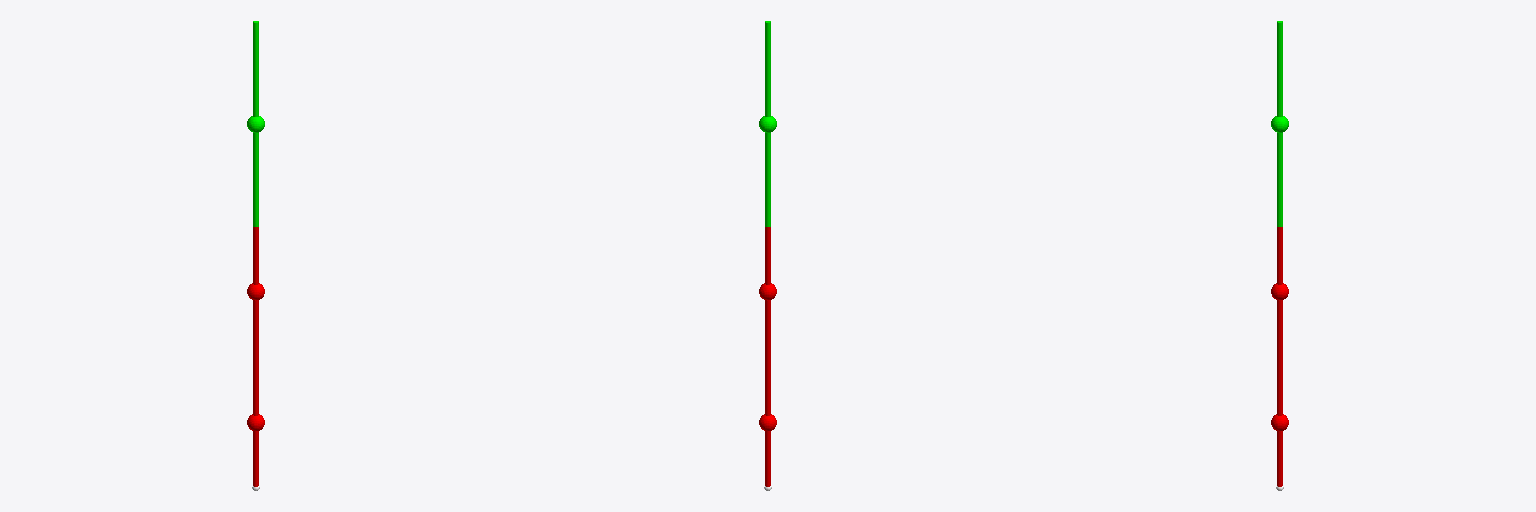
URDF robot description (rabbit):
<?xml version="1.0" ?>
<robot name="rabbit">

    <material name="blue">
        <color rgba="0 0 1 1"/>
    </material>

    <material name="green">
        <color rgba="0 1 0 1"/>
    </material>

    <material name="red">
        <color rgba="1 0 0 1"/>
    </material>

    <material name="white">
        <color rgba="1 1 1 1"/>
    </material>

    <link name="base"/>
    <link name="base_x"/>
    <link name="base_xz"/>
    <link name="torso_mass">
        <inertial>
            <mass value="12.0"/>
            <inertia ixx="1.33" ixy="0" ixz="0" iyy="1.33" iyz="0" izz="1.33"/>
        </inertial>
        <visual>
            <geometry>
                <sphere radius="0.025"/>
            </geometry>
            <material name="green"/>
        </visual>
    </link>
    <link name="torso">
        <visual>
            <origin xyz="0 0 0.3125"/>
            <geometry>
                <cylinder length="0.625" radius="0.0075"/>
            </geometry>
            <material name="green"/>
        </visual>
    </link>
    <link name="left_upper_leg">
        <visual>
            <origin xyz="0 0 -0.2"/>
            <geometry>
                <cylinder length="0.4" radius="0.0075"/>
            </geometry>
            <material name="red"/>
        </visual>
    </link>
    <link name="left_upper_leg_mass">
        <visual>
            <origin xyz="0 0 -0.2"/>
            <geometry>
                <sphere radius="0.025"/>
            </geometry>
            <material name="red"/>
        </visual>
        <inertial>
            <origin xyz="0 0 -0.2"/>
            <mass value="6.4"/>
            <inertia ixx="0.47" ixy="0" ixz="0" iyy="0.47" iyz="0" izz="0.47"/>
        </inertial>
    </link>
    <joint name="left_upper_leg_mass_weld" type="fixed">
        <parent link="left_upper_leg"/>
        <child link="left_upper_leg_mass"/>
    </joint>
    <link name="right_upper_leg">
        <visual>
            <origin xyz="0 0 -0.2"/>
            <geometry>
                <cylinder length="0.4" radius="0.0075"/>
            </geometry>
            <material name="blue"/>
        </visual>
    </link>
    <link name="right_upper_leg_mass">
        <visual>
            <origin xyz="0 0 -0.2"/>
            <geometry>
                <sphere radius="0.025"/>
            </geometry>
            <material name="blue"/>
        </visual>
        <inertial>
            <origin xyz="0 0 -0.2"/>
            <mass value="6.4"/>
            <inertia ixx="0.47" ixy="0" ixz="0" iyy="0.47" iyz="0" izz="0.47"/>
        </inertial>
    </link>
    <joint name="right_upper_leg_mass_weld" type="fixed">
        <parent link="right_upper_leg"/>
        <child link="right_upper_leg_mass"/>
    </joint>
    <link name="left_lower_leg">
        <visual>
            <origin xyz="0 0 -0.2"/>
            <geometry>
                <cylinder length="0.4" radius="0.0075"/>
            </geometry>
            <material name="red"/>
        </visual>
        <collision>
            <origin xyz="0 0 -0.4"/>
            <geometry>
                <sphere radius="0"/>
            </geometry>
        </collision>
    </link>
    <link name="left_lower_leg_mass">
        <visual>
            <origin xyz="0 0 -0.2"/>
            <geometry>
                <sphere radius="0.025"/>
            </geometry>
            <material name="red"/>
        </visual>
        <inertial>
            <origin xyz="0 0 -0.2"/>
            <mass value="3.2"/>
            <inertia ixx="0.2" ixy="0" ixz="0" iyy="0.2" iyz="0" izz="0.2"/>
        </inertial>
    </link>
    <joint name="left_lower_leg_mass_weld" type="fixed">
        <parent link="left_lower_leg"/>
        <child link="left_lower_leg_mass"/>
    </joint>
    <link name="right_lower_leg">
        <visual>
            <origin xyz="0 0 -0.2"/>
            <geometry>
                <cylinder length="0.4" radius="0.0075"/>
            </geometry>
            <material name="blue"/>
        </visual>
        <collision>
            <origin xyz="0 0 -0.4"/>
            <geometry>
                <sphere radius="0"/>
            </geometry>
        </collision>
    </link>
    <link name="right_lower_leg_mass">
        <visual>
            <origin xyz="0 0 -0.2"/>
            <geometry>
                <sphere radius="0.025"/>
            </geometry>
            <material name="blue"/>
        </visual>
        <inertial>
            <origin xyz="0 0 -0.2"/>
            <mass value="3.2"/>
            <inertia ixx="0.2" ixy="0" ixz="0" iyy="0.2" iyz="0" izz="0.2"/>
        </inertial>
    </link>
    <link name="left_foot">
        <visual>
            <origin xyz="0 0 0"/>
            <geometry>
                <sphere radius="0.01"/>
            </geometry>
            <material name="white"/>
        </visual>
    </link>
    <link name="right_foot">
        <visual>
            <origin xyz="0 0 0"/>
            <geometry>
                <sphere radius="0.01"/>
            </geometry>
            <material name="white"/>
        </visual>
    </link>
    <joint name="planar_x" type="prismatic">
        <parent link="base"/>
        <child link="base_x"/>
        <axis xyz="1 0 0"/>
    </joint>
    <joint name="planar_z" type="prismatic">
        <parent link="base_x"/>
        <child link="base_xz"/>
        <axis xyz="0 0 1"/>
    </joint>
    <joint name="planar_roty" type="continuous">
        <parent link="base_xz"/>
        <child link="torso"/>
        <axis xyz="0 1 0"/>
    </joint>
    <joint name="torso_mass_weld" type="fixed">
        <parent link="torso"/>
        <child link="torso_mass"/>
        <origin xyz="0 0 0.3125"/>
    </joint>
    <joint name="right_lower_leg_mass_weld" type="fixed">
        <parent link="right_lower_leg"/>
        <child link="right_lower_leg_mass"/>
    </joint>
    <joint name="left_hip_pin" type="revolute">
        <parent link="torso"/>
        <child link="left_upper_leg"/>
        <axis xyz="0 1 0"/>
        <origin xyz="0 0 0"/>
        <limit effort="35"/>
        <dynamics damping="0.0" />
    </joint>
    <joint name="right_hip_pin" type="revolute">
        <parent link="torso"/>
        <child link="right_upper_leg"/>
        <axis xyz="0 1 0"/>
        <origin xyz="0 0 0"/>
        <limit effort="35"/>
        <dynamics damping="0.0" />
    </joint>
    <joint name="left_knee_pin" type="revolute">
        <parent link="left_upper_leg"/>
        <child link="left_lower_leg"/>
        <axis xyz="0 1 0"/>
        <origin xyz="0 0 -0.4"/>
        <limit effort="35"/>
        <dynamics damping="0.0" />
    </joint>
    <joint name="right_knee_pin" type="revolute">
        <parent link="right_upper_leg"/>
        <child link="right_lower_leg"/>
        <axis xyz="0 1 0"/>
        <origin xyz="0 0 -0.4"/>
        <limit effort="35"/>
        <dynamics damping="0.0" />
    </joint>
    <joint name="right_foot" type="fixed">
        <parent link="right_lower_leg"/>
        <child link="right_foot"/>
        <origin xyz="0 0 -.4"/>
    </joint>
    <joint name="left_foot" type="fixed">
        <parent link="left_lower_leg"/>
        <child link="left_foot"/>
        <origin xyz="0 0 -.4"/>
    </joint>
    <transmission name="left_hip_trans" type="SimpleTransmission">
        <actuator name="left_hip_torque"/>
        <joint name="left_hip_pin"/>
        <mechanicalReduction>1</mechanicalReduction>
    </transmission>
    <transmission name="right_hip_trans" type="SimpleTransmission">
        <actuator name="right_hip_torque"/>
        <joint name="right_hip_pin"/>
        <mechanicalReduction>1</mechanicalReduction>
    </transmission>
    <transmission name="left_knee_trans" type="SimpleTransmission">
        <actuator name="left_knee_torque"/>
        <joint name="left_knee_pin"/>
        <mechanicalReduction>1</mechanicalReduction>
    </transmission>
    <transmission name="right_knee_trans" type="SimpleTransmission">
        <actuator name="right_knee_torque"/>
        <joint name="right_knee_pin"/>
        <mechanicalReduction>1</mechanicalReduction>
    </transmission>
    <collision_filter_group name="robot_links">
        <member link="left_lower_leg_mass"/>
        <member link="right_lower_leg_mass"/>
        <member link="left_lower_leg"/>
        <member link="right_lower_leg"/>
        <member link="left_upper_leg"/>
        <member link="right_upper_leg"/>
        <member link="torso"/>
        <member link="torso_mass"/>
        <ignored_collision_filter_group collision_filter_group="robot_links"/>
    </collision_filter_group>
</robot>

--- What the picture shows (computed from the rendered views, not written in the file) ---
Views: 3 orthographic renders of the robot side by side, from view 1: azimuth 30°, elevation 25°; view 2: azimuth 150°, elevation 25°; view 3: azimuth 270°, elevation 25°.
Robot: rabbit — 15 links, 14 joints (4 revolute, 1 continuous, 2 prismatic, 7 fixed); root link base; default pose: all joints at 0.
Links seen in each view (by area): view 1: torso, left_upper_leg, left_lower_leg; view 2: torso, left_upper_leg, left_lower_leg; view 3: torso, left_upper_leg, left_lower_leg.
Boxes of the visible links, x1=… form: torso: x1=253, y1=21, x2=258, y2=226; left_upper_leg: x1=253, y1=227, x2=258, y2=357; left_lower_leg: x1=253, y1=357, x2=258, y2=486; torso: x1=765, y1=21, x2=770, y2=226; left_upper_leg: x1=765, y1=227, x2=770, y2=357; left_lower_leg: x1=765, y1=357, x2=770, y2=486; torso: x1=1277, y1=21, x2=1282, y2=226; left_upper_leg: x1=1277, y1=227, x2=1282, y2=357; left_lower_leg: x1=1277, y1=357, x2=1282, y2=486.
Bounding box of the posed robot: 0.05 × 0.05 × 1.44 m (x, y, z).
Geometry: primitives only (box / cylinder / sphere), no mesh files.
